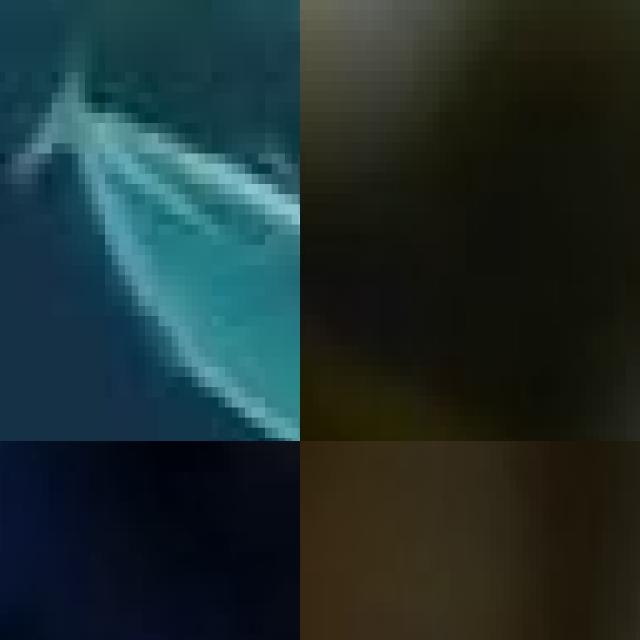fish: (300, 0, 626, 441), (0, 0, 300, 441)
